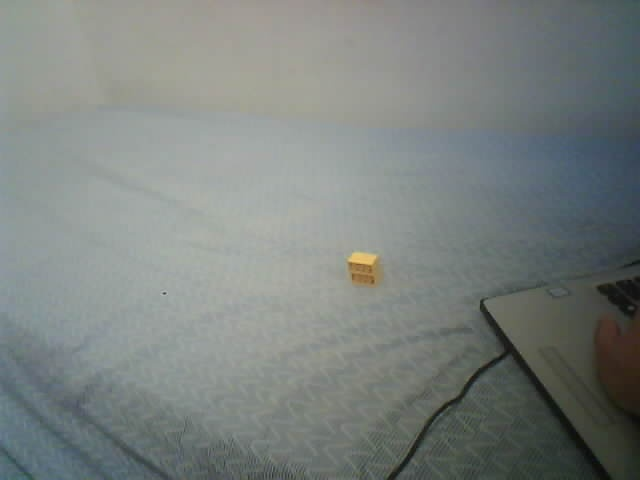lego: (344, 250, 383, 287)
